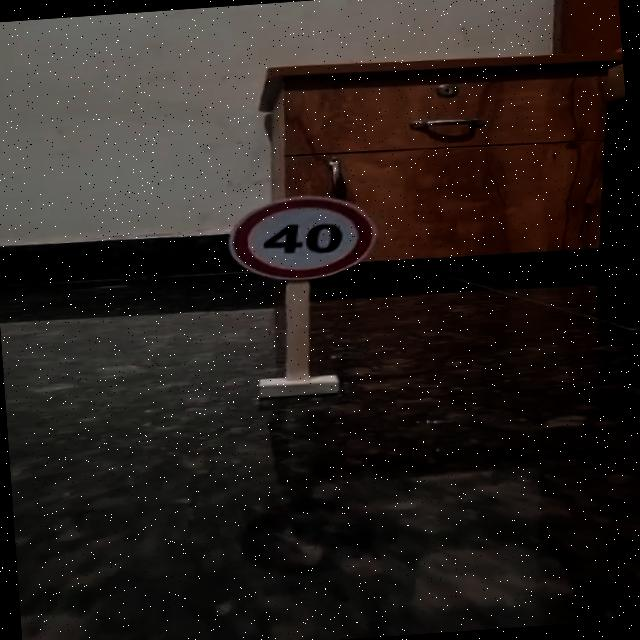Speed40: (222, 188, 384, 288)
